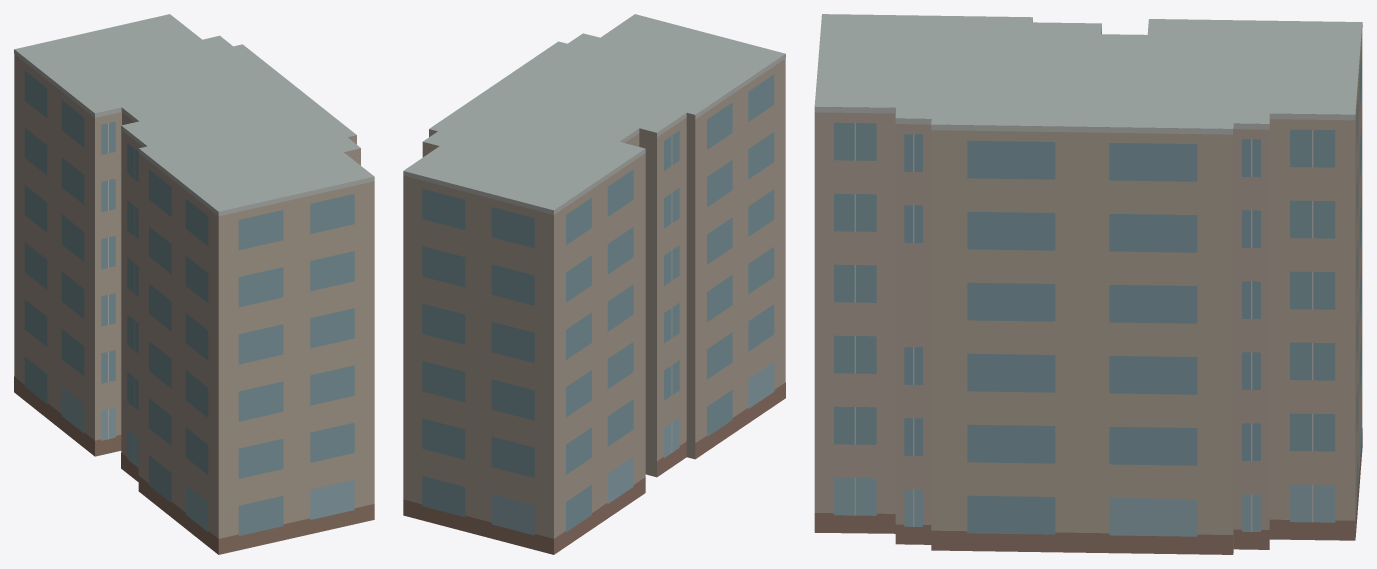
The model's file is survey-upis-32564554.glb.
3 views of the same model, side by side, from view 1: azimuth 30°, elevation 25°; view 2: azimuth 150°, elevation 25°; view 3: azimuth 270°, elevation 25° (orthographic). The views are drawn at different scales.
Parts seen in each view (by area): view 1: survey-upis-32564554.tmp; view 2: survey-upis-32564554.tmp; view 3: survey-upis-32564554.tmp.
Part boxes in pixels (x1,y1,x2,y2): survey-upis-32564554.tmp: [14, 14, 374, 554]; survey-upis-32564554.tmp: [403, 14, 785, 554]; survey-upis-32564554.tmp: [814, 14, 1362, 554].
Bounding box in the file's own units: 10.6 × 18.3 × 21.34.
